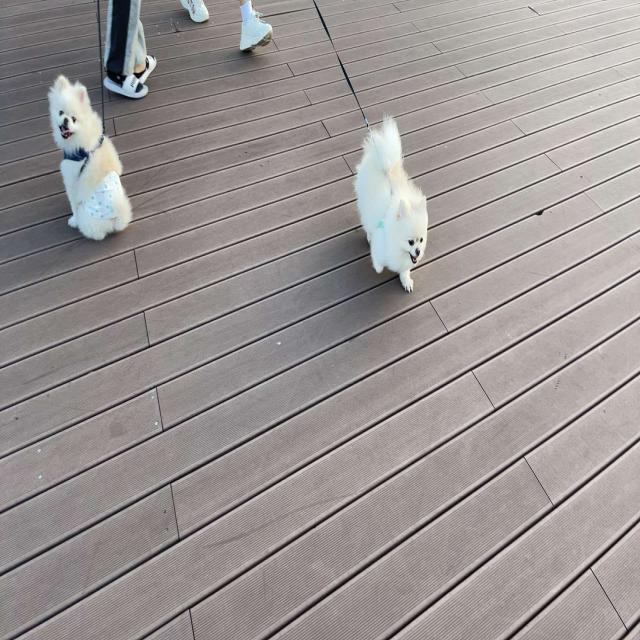Dog: (48, 75, 134, 243), (354, 113, 428, 294)
